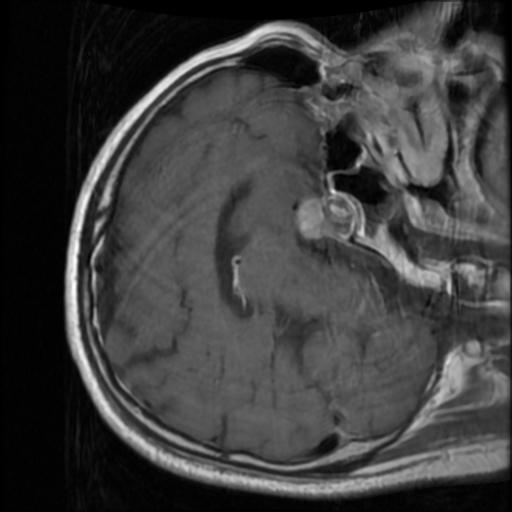pituitary tumour: (296, 198, 352, 239)
